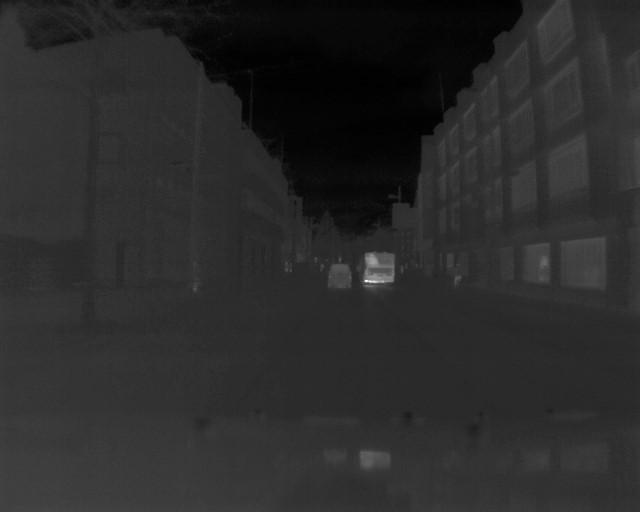car: (358, 250, 398, 292), (322, 260, 354, 291)
